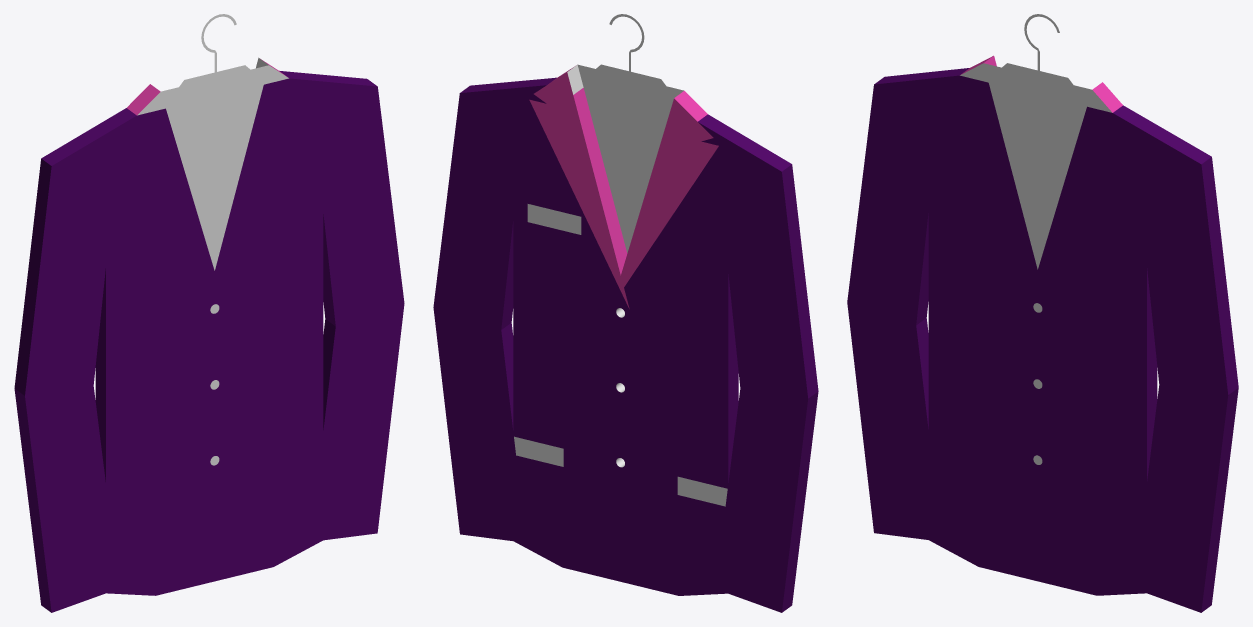
The model's file is jacket-purple.dae.
The picture shows the model from 3 angles, left to right: view 1: azimuth 30°, elevation 25°; view 2: azimuth 150°, elevation 25°; view 3: azimuth 330°, elevation 25°; orthographic projection.
Parts seen in each view (by area): view 1: SketchUp_017, SketchUp_003, SketchUp, SketchUp_001, SketchUp_014; view 2: SketchUp_003, SketchUp_008, SketchUp, SketchUp_001, SketchUp_007, SketchUp_010, SketchUp_011, SketchUp_014; view 3: SketchUp_017, SketchUp, SketchUp_004, SketchUp_003, SketchUp_001, SketchUp_014, SketchUp_008.
Part boxes in pixels (bbox=[...]): SketchUp_017: bbox=[25, 78, 404, 612]; SketchUp_003: bbox=[14, 70, 376, 612]; SketchUp: bbox=[166, 84, 263, 270]; SketchUp_001: bbox=[161, 65, 268, 108]; SketchUp_014: bbox=[179, 14, 249, 86]; SketchUp_003: bbox=[433, 77, 818, 612]; SketchUp_008: bbox=[529, 66, 718, 308]; SketchUp: bbox=[582, 84, 671, 252]; SketchUp_001: bbox=[577, 64, 683, 105]; SketchUp_007: bbox=[527, 204, 581, 234]; SketchUp_010: bbox=[677, 476, 727, 506]; SketchUp_011: bbox=[514, 436, 563, 466]; SketchUp_014: bbox=[596, 14, 665, 85]; SketchUp_017: bbox=[847, 75, 1228, 612]; SketchUp: bbox=[989, 83, 1086, 269]; SketchUp_004: bbox=[1201, 157, 1238, 612]; SketchUp_003: bbox=[874, 68, 1211, 480]; SketchUp_001: bbox=[983, 63, 1091, 106]; SketchUp_014: bbox=[1002, 14, 1073, 84]; SketchUp_008: bbox=[961, 55, 1122, 112].
Size of the model in its own units: 0.532 by 0.0254 by 0.7578.
